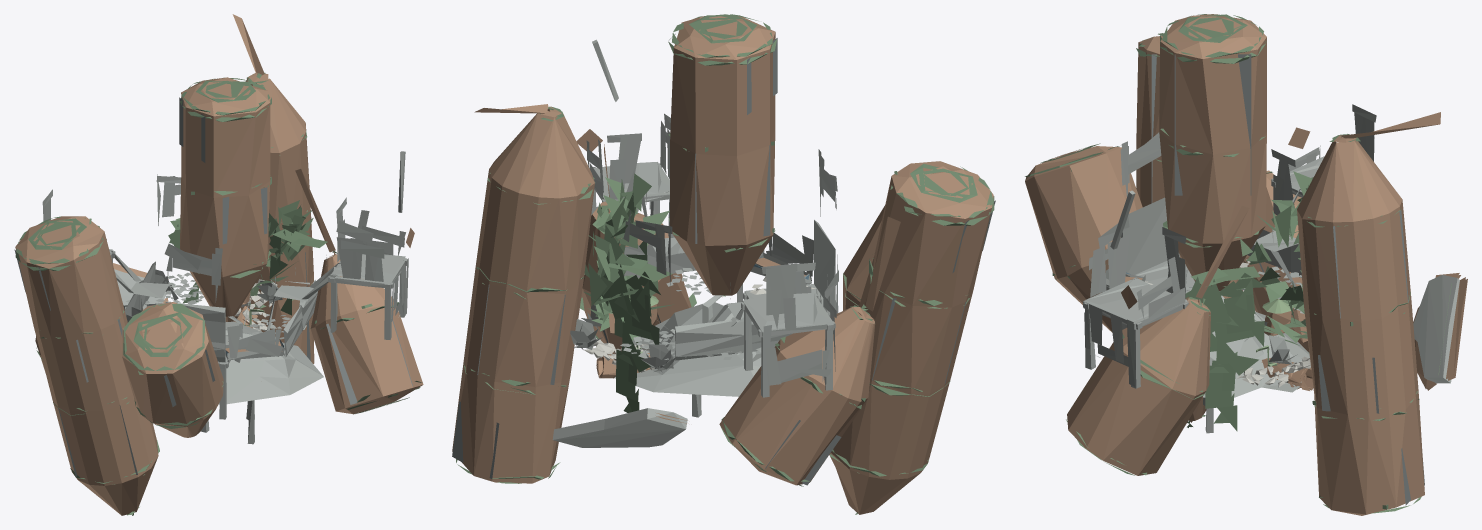
File: water_well_d.glb
The picture shows the model from 3 angles, left to right: view 1: azimuth 30°, elevation 25°; view 2: azimuth 150°, elevation 25°; view 3: azimuth 270°, elevation 25°; orthographic projection. The views are drawn at different scales.
Visible parts, largest first — view 1: silo_b_LOD0, rubble_pile_6x6_LOD0, water_well_LOD0; view 2: silo_b_LOD0, rubble_pile_6x6_LOD0, water_well_LOD0; view 3: silo_b_LOD0, rubble_pile_6x6_LOD0, water_well_LOD0.
Boxes of the visible parts, x1,y1,x2,y2 form: silo_b_LOD0: [14, 14, 423, 515]; rubble_pile_6x6_LOD0: [42, 151, 408, 444]; water_well_LOD0: [225, 279, 277, 359]; silo_b_LOD0: [452, 14, 995, 514]; rubble_pile_6x6_LOD0: [552, 39, 838, 447]; water_well_LOD0: [583, 276, 816, 372]; silo_b_LOD0: [1025, 14, 1467, 515]; rubble_pile_6x6_LOD0: [1083, 104, 1459, 433]; water_well_LOD0: [1145, 259, 1310, 387].
Size of the model in its own units: 20.95 by 21.2 by 18.55.
